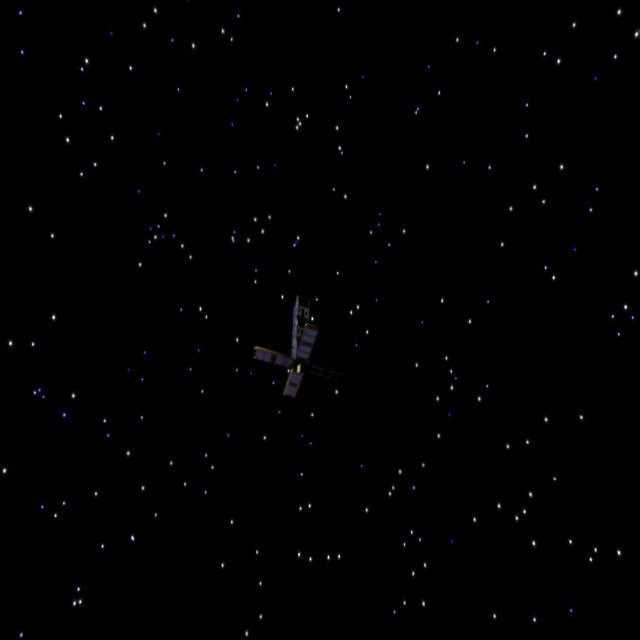medium_debris: (247, 296, 336, 405)
